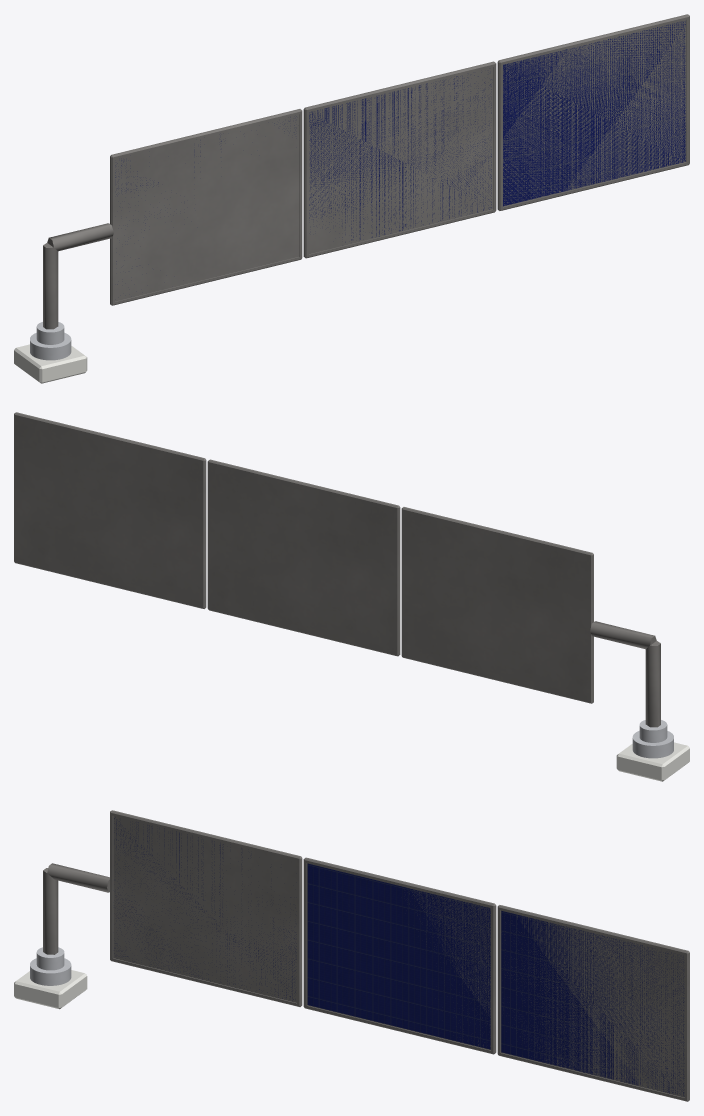
File: ax_power_02_rigid_wing_m_deployed.glb
3 views of the same model, one above another, from view 1: azimuth 30°, elevation 25°; view 2: azimuth 150°, elevation 25°; view 3: azimuth 330°, elevation 25° (orthographic).
Parts seen in each view (by area): view 1: panel_2, panel_1, panel_3, panel_3_cells, panel_2_cells, yoke, mount_block, gimbal; view 2: panel_2, panel_3, panel_1, yoke, mount_block, gimbal; view 3: panel_1, panel_2_cells, panel_3, panel_3_cells, panel_2, yoke, mount_block, gimbal, panel_1_cells.
Part boxes in pixels (x1,y1,x2,y2): panel_2: (303, 61, 496, 258); panel_1: (110, 109, 302, 305); panel_3: (497, 14, 689, 210); panel_3_cells: (503, 21, 685, 206); panel_2_cells: (309, 72, 491, 242); yoke: (43, 223, 113, 329); mount_block: (14, 344, 87, 383); gimbal: (30, 322, 71, 360); panel_2: (207, 459, 400, 656); panel_3: (14, 412, 206, 608); panel_1: (401, 507, 593, 703); yoke: (590, 621, 660, 727); mount_block: (616, 742, 689, 781); gimbal: (632, 720, 673, 758); panel_1: (110, 810, 302, 1006); panel_2_cells: (307, 863, 490, 1049); panel_3: (497, 905, 689, 1101); panel_3_cells: (501, 911, 684, 1096); panel_2: (303, 857, 496, 1054); yoke: (43, 863, 109, 954); mount_block: (14, 970, 87, 1009); gimbal: (30, 947, 71, 985); panel_1_cells: (114, 817, 296, 1000).
Bounding box in the file's own units: 5.54 × 1.59 × 0.4.
Materials: 4 (3 with a texture image).
